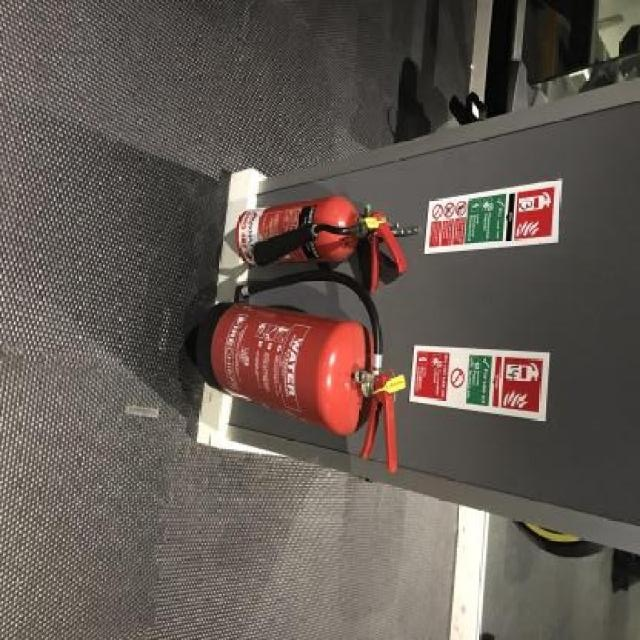fire extinguisher: (194, 269, 406, 473), (237, 198, 408, 294)
